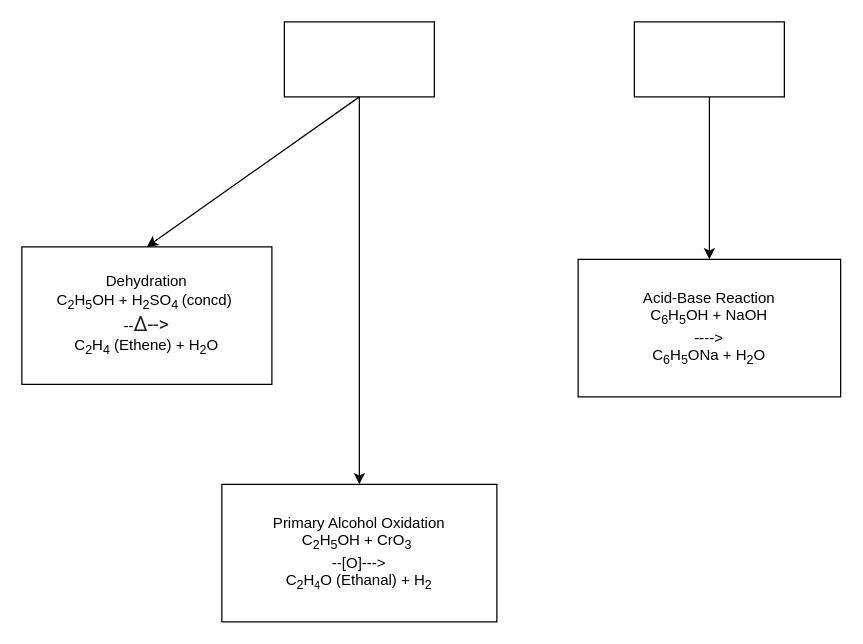
This 863x644 diagram has some shape labels left out. Here are the shapes that lost their labels. From the top down, the centre of each, then its label:
pixel 358 59: Alcohol (ethanol)
pixel 708 59: Phenol (Phenol)
